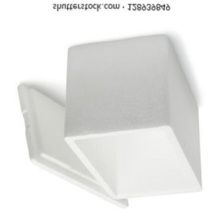foam_box: (11, 28, 207, 213)
